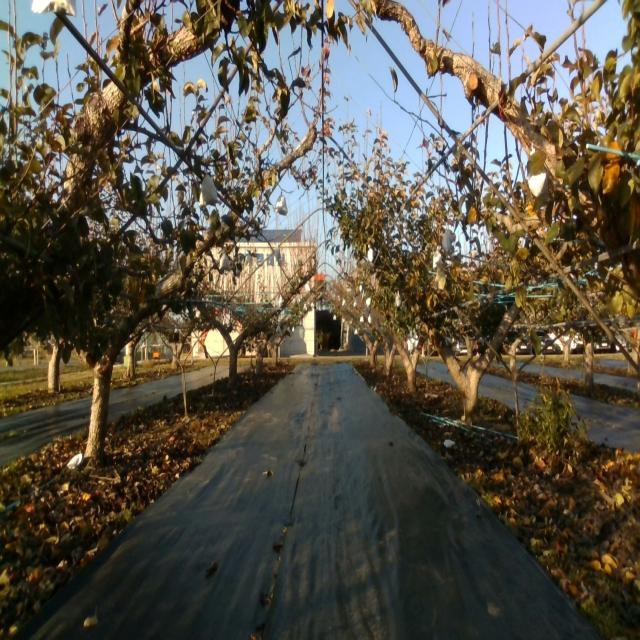pearbags: (199, 174, 218, 205), (528, 171, 549, 199), (275, 192, 290, 216), (219, 251, 231, 271), (442, 230, 452, 251)
